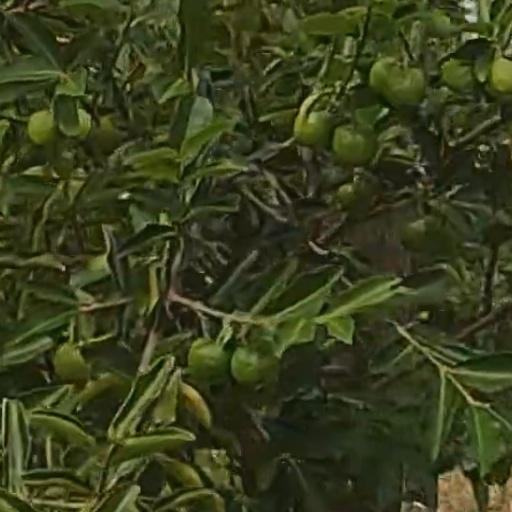acerola: (373, 65, 424, 112), (189, 337, 224, 382), (235, 352, 278, 388), (339, 127, 376, 168), (297, 114, 329, 147), (55, 342, 82, 377), (29, 109, 50, 140)
